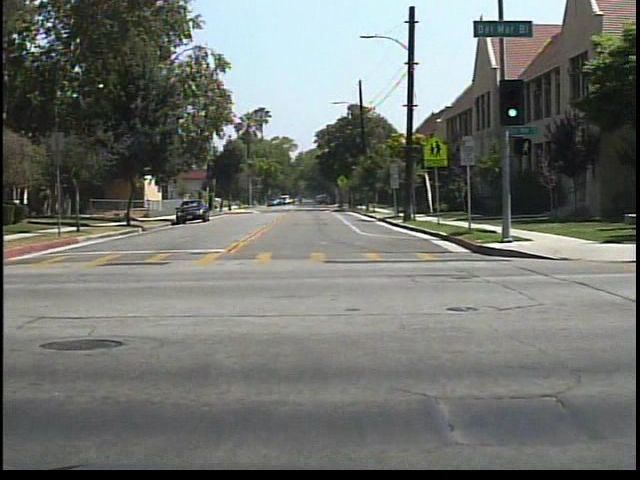person: (293, 191, 308, 209)
